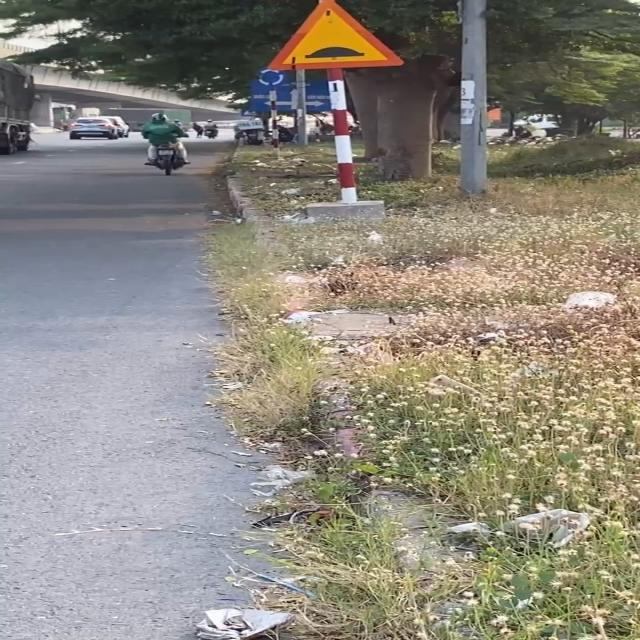221-duong-go-ghe: (266, 0, 408, 70)
303-noi-giao-nhau-chay-theo-vong-xuyen: (256, 68, 286, 88)
